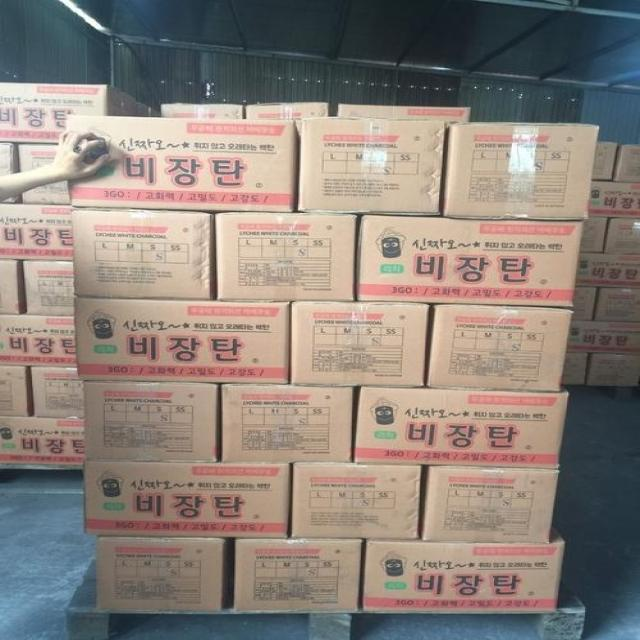box: (67, 115, 300, 212), (358, 216, 585, 309), (78, 296, 291, 383), (362, 525, 563, 612), (355, 385, 567, 467), (83, 461, 291, 538), (439, 122, 600, 220), (301, 120, 449, 215), (70, 207, 214, 298), (214, 213, 356, 302), (426, 304, 571, 391), (289, 303, 429, 386), (82, 383, 221, 462), (220, 384, 356, 464), (93, 537, 234, 612), (422, 467, 561, 542), (233, 537, 367, 613), (291, 462, 422, 539), (0, 83, 157, 142), (0, 202, 74, 264), (1, 314, 81, 367), (1, 415, 84, 464), (23, 262, 77, 316), (337, 102, 471, 123), (29, 367, 84, 418), (567, 322, 640, 354), (576, 252, 640, 288), (589, 182, 640, 218), (586, 352, 640, 386), (0, 367, 32, 416), (594, 288, 640, 322), (246, 102, 332, 119), (0, 260, 27, 314), (605, 217, 640, 254), (18, 181, 73, 204), (17, 145, 60, 174), (160, 105, 246, 119), (571, 286, 599, 320), (561, 352, 590, 384), (614, 146, 640, 181), (593, 142, 616, 181), (581, 217, 607, 250), (0, 144, 18, 179)
